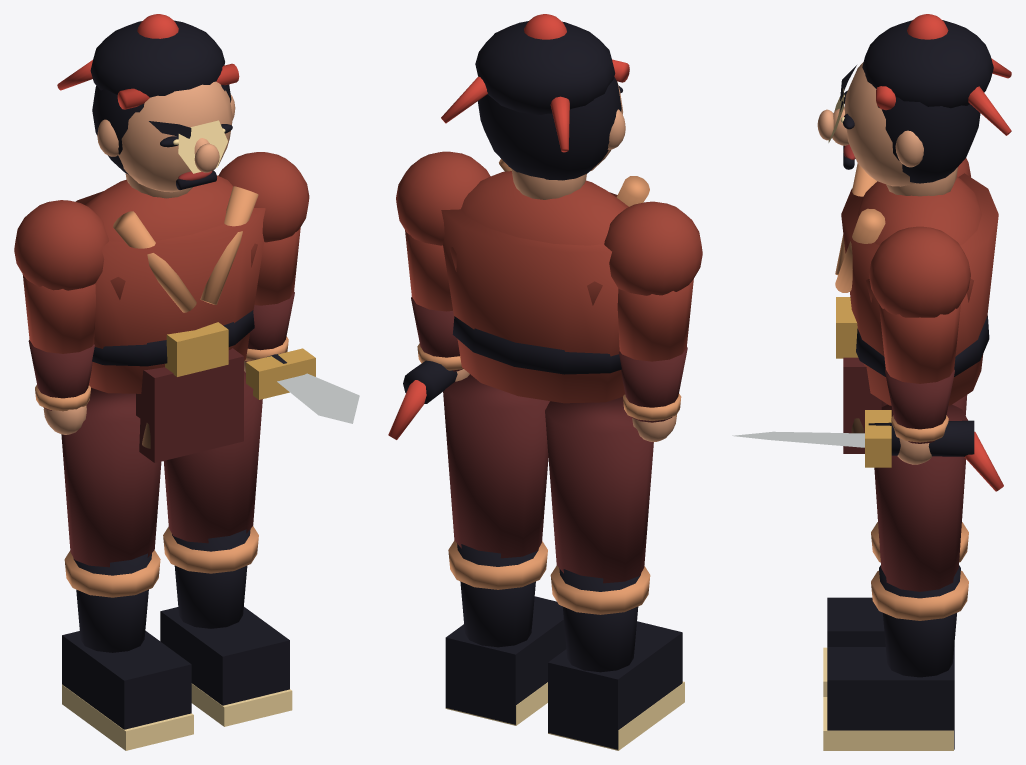
File: liu.glb
The picture shows the model from 3 angles, left to right: view 1: azimuth 30°, elevation 25°; view 2: azimuth 150°, elevation 25°; view 3: azimuth 270°, elevation 25°; orthographic projection. The views are drawn at different scales.
Visible parts, largest first — view 1: Cone.171, Cone.184, Cube.200, Cube.199, Cone.192, Cube.203, Sphere.034, Sphere.036, Sphere.024, Sphere.021, Sphere.038, Cone.185 (+23 smaller); view 2: Cone.171, Cone.184, Cone.192, Cube.200, Sphere.034, Cube.203, Sphere.023, Sphere.021, Sphere.036, Sphere.038, Cone.185, Cone.193 (+18 smaller); view 3: Cone.192, Cube.203, Cone.171, Sphere.034, Sphere.038, Sphere.023, Cone.187, Sphere.021, Cone.193, Sphere.024, Cube.204, Cone.188 (+18 smaller).
Boxes of the visible parts, <box> form: Cone.171: <box>75,191,265,393</box>; Cone.184: <box>61,388,161,567</box>; Cube.200: <box>62,630,191,729</box>; Cube.199: <box>136,348,243,462</box>; Cone.192: <box>163,371,262,543</box>; Cube.203: <box>160,607,289,705</box>; Sphere.034: <box>90,20,224,97</box>; Sphere.036: <box>14,200,108,290</box>; Sphere.024: <box>118,81,232,192</box>; Sphere.021: <box>85,175,257,299</box>; Sphere.038: <box>218,152,309,242</box>; Cone.185: <box>73,553,151,652</box>; Cone.171: <box>441,192,625,403</box>; Cone.184: <box>545,397,653,583</box>; Cone.192: <box>443,374,549,558</box>; Cube.200: <box>548,621,682,749</box>; Sphere.034: <box>475,21,615,114</box>; Cube.203: <box>445,596,566,724</box>; Sphere.023: <box>477,77,621,180</box>; Sphere.021: <box>449,171,628,305</box>; Sphere.036: <box>604,201,702,295</box>; Sphere.038: <box>396,151,490,245</box>; Cone.185: <box>559,568,640,672</box>; Cone.193: <box>457,543,538,647</box>; Cone.192: <box>874,404,967,591</box>; Cube.203: <box>827,647,954,749</box>; Cone.171: <box>841,173,998,405</box>; Sphere.034: <box>862,20,993,108</box>; Sphere.038: <box>869,226,970,317</box>; Sphere.023: <box>878,97,980,183</box>; Cone.187: <box>879,304,960,383</box>; Sphere.021: <box>858,176,981,302</box>; Cone.193: <box>879,565,960,677</box>; Sphere.024: <box>844,62,914,186</box>; Cube.204: <box>823,697,953,750</box>; Cone.188: <box>885,369,954,443</box>.
Size of the model in its own units: 0.9187 by 2.1 by 0.7717.
